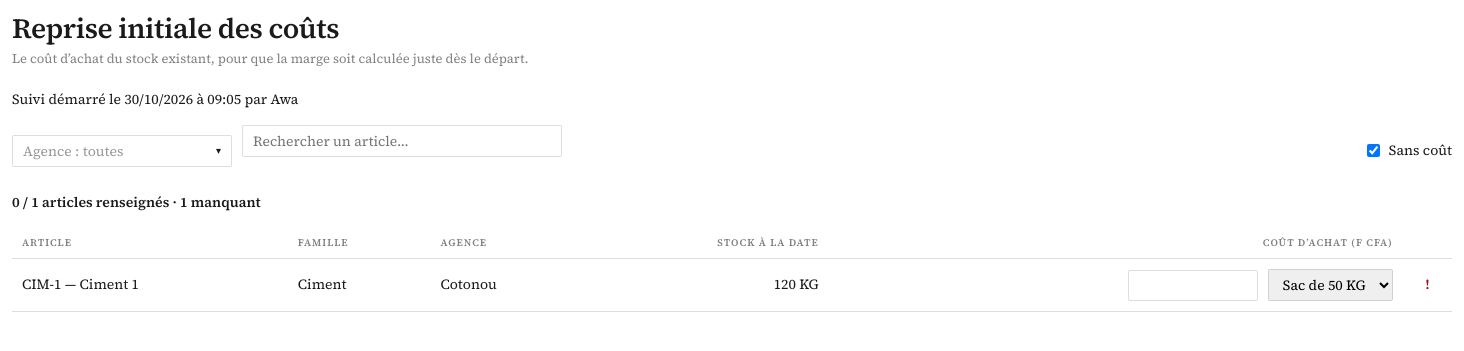
Test: InitialCostsComponent › packaging of the cost › saves the price typed for the sack as a cost per stock unit
The width and height of the screenshot is (1464, 351).
Type "4000" into the number field with class "cost-input" at (1193, 285), box [1128, 270, 1258, 301]
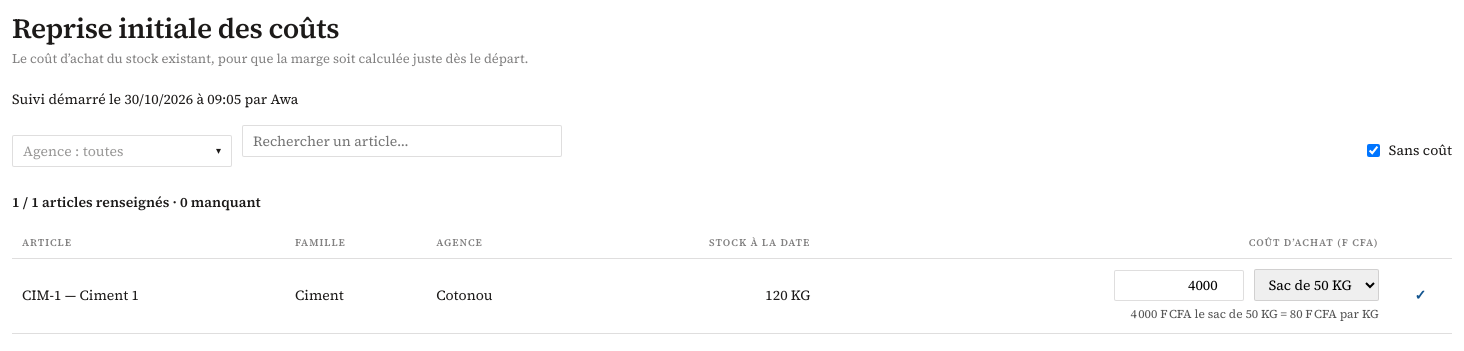
Result: the text with class "conversion" shows "= 80 F CFA par KG" at [1130, 306, 1379, 322]
